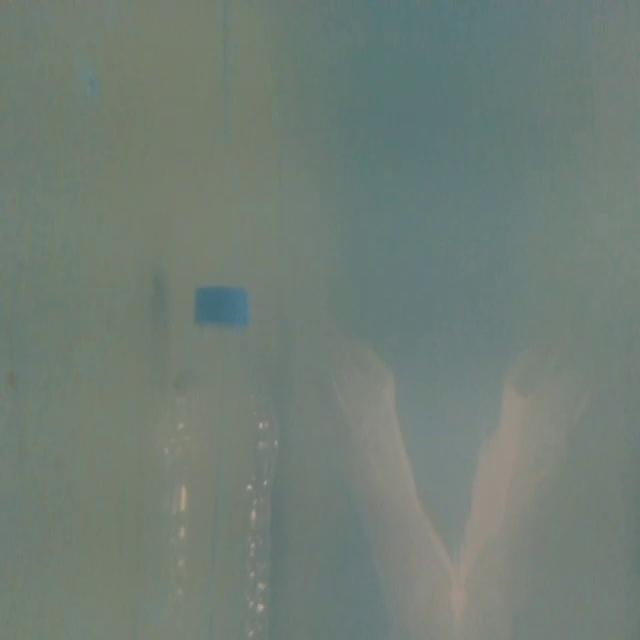plastic bags: (318, 324, 569, 640)
plastic bottle: (151, 281, 278, 640)
